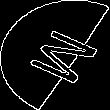M_SE: (12, 22, 98, 88)
